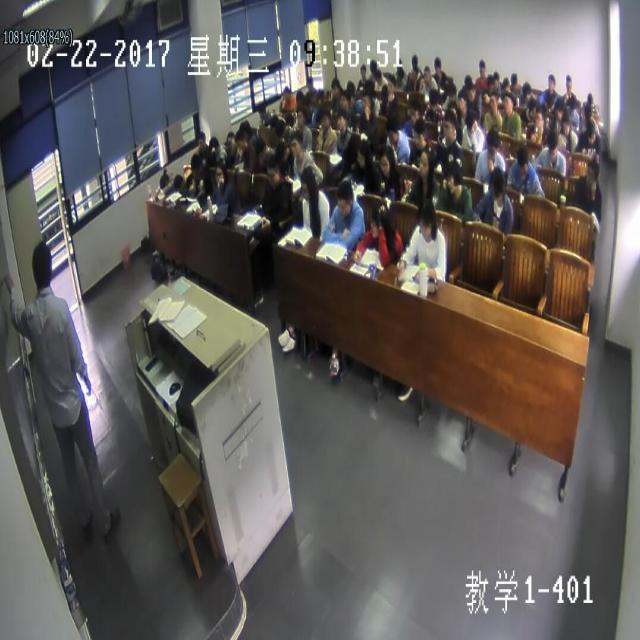no_helmet: (31, 244, 52, 288), (371, 204, 388, 236), (336, 184, 352, 215), (418, 203, 433, 236), (300, 169, 314, 198), (490, 170, 504, 199), (379, 147, 392, 177), (446, 164, 459, 192), (586, 157, 598, 187), (442, 112, 454, 141), (253, 136, 266, 162), (487, 130, 499, 158), (357, 141, 369, 168), (414, 122, 426, 149), (419, 150, 430, 177), (276, 138, 288, 162), (290, 133, 302, 157), (267, 159, 279, 182), (386, 120, 398, 142), (190, 156, 202, 177), (215, 161, 225, 185), (517, 149, 527, 173), (429, 89, 439, 112), (239, 120, 250, 140), (337, 110, 348, 129), (549, 134, 557, 160), (320, 108, 330, 128), (408, 100, 418, 120), (456, 91, 466, 111), (466, 112, 476, 132), (347, 78, 355, 102), (361, 92, 371, 111), (502, 93, 512, 112), (159, 172, 169, 190), (173, 172, 183, 190), (208, 136, 218, 154), (257, 100, 267, 118), (448, 100, 457, 120), (554, 98, 563, 118), (586, 122, 595, 142), (234, 131, 244, 148), (365, 80, 374, 98), (523, 80, 532, 98), (331, 78, 339, 98), (534, 108, 542, 128), (339, 91, 348, 108), (276, 118, 285, 134), (296, 109, 304, 127), (282, 84, 291, 100), (374, 66, 382, 84), (510, 69, 518, 87), (529, 98, 537, 116), (563, 113, 570, 133), (306, 74, 314, 91), (478, 58, 486, 75), (386, 78, 394, 94), (422, 66, 430, 82), (568, 94, 576, 110), (305, 95, 312, 113), (434, 55, 441, 73), (492, 72, 500, 87), (546, 75, 554, 90), (227, 130, 234, 147), (296, 88, 303, 105), (410, 52, 417, 69), (368, 58, 376, 72), (502, 76, 509, 92), (565, 73, 571, 91), (198, 132, 205, 147), (271, 111, 278, 126), (548, 93, 554, 110), (489, 95, 496, 109), (465, 73, 471, 89), (487, 74, 493, 90), (584, 104, 590, 120), (586, 91, 592, 106), (359, 64, 366, 76), (397, 68, 403, 82), (396, 56, 402, 70), (286, 110, 292, 122), (467, 86, 473, 98)
